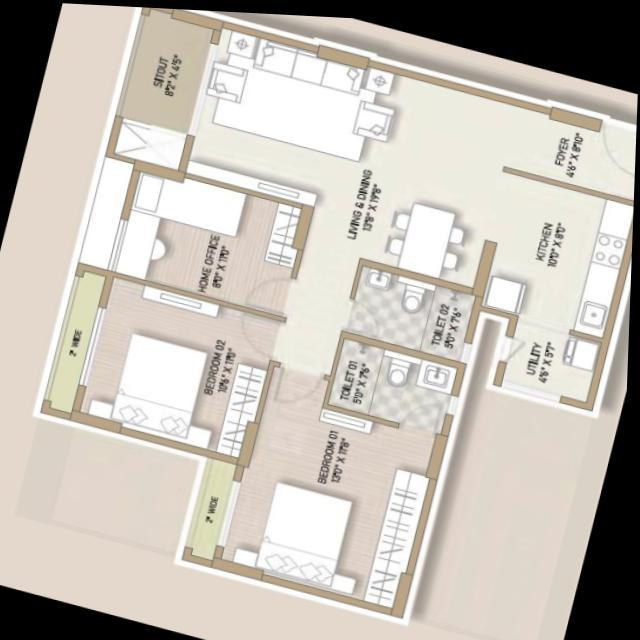Balcony-Sitout: (114, 6, 213, 132), (38, 260, 110, 421), (183, 446, 245, 568)
Bedroom: (70, 268, 286, 463)
Bedroom with Toilet: (218, 329, 464, 610)
Dining: (380, 188, 480, 280)
Enterance-Foyer: (582, 98, 638, 190)
Kitchen: (472, 159, 635, 336)
Living: (177, 16, 409, 222)
Toilet: (325, 326, 471, 435), (340, 254, 485, 363)
Utility: (494, 306, 610, 408)
